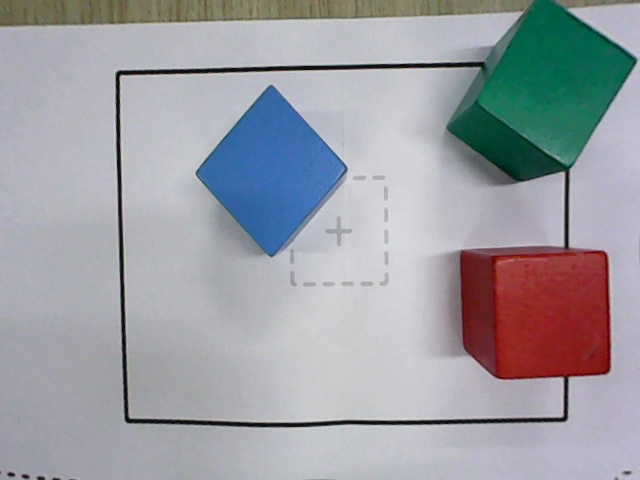upside of big cube: (476, 0, 637, 169), (195, 85, 348, 257), (495, 251, 609, 379)
